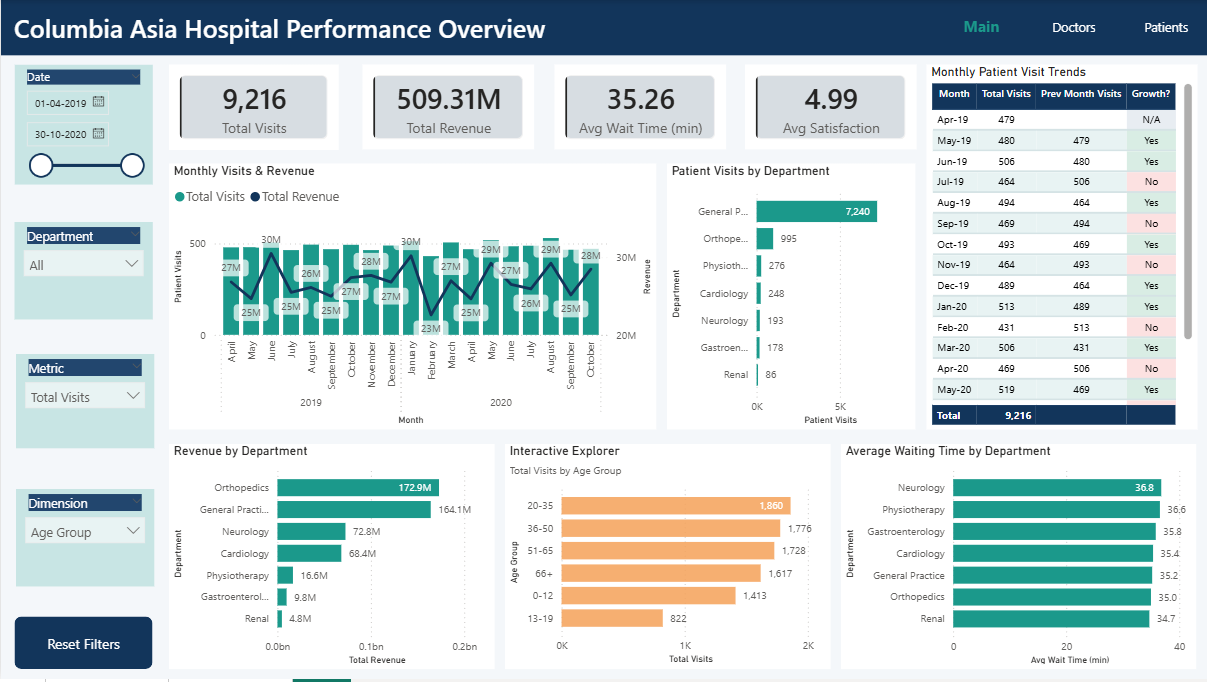

Layout of this report page (visuals, bound fields, positions):
{"tool":"powerbi","page":{"name":"Main","canvas":[1280,720],"ordinal":0},"visuals":[{"type":"cardVisual","fields":{"Data":["FactVisits.Total Visits"]},"box":[178.1,68.4,179.7,90.7],"z":0},{"type":"cardVisual","fields":{"Data":["FactVisits.Total Revenue"]},"box":[383.3,68.3,181.7,90],"z":1000},{"type":"cardVisual","fields":{"Data":["FactVisits.Avg Wait Time"]},"box":[586.7,68.3,181.7,90],"z":2000},{"type":"cardVisual","fields":{"Data":["FactVisits.Avg Satisfaction"]},"box":[788.3,68.3,181.7,90],"z":3000},{"type":"shape","box":[0,0,1600.2,58.9],"z":4000},{"type":"textbox","box":[0,0,1600.2,58.9],"z":5000},{"type":"slicer","fields":{"Values":["Dim_Date.Date"]},"box":[14.3,68.4,146.3,127.2],"z":6000},{"type":"slicer","title":"Department","fields":{"Values":["Dim_Department.Department"]},"box":[14.3,235.4,146.3,103.4],"z":7000},{"type":"lineClusteredColumnComboChart","title":"Monthly Visits & Revenue","fields":{"Category":["Dim_Date.Date Hierarchy.Year","Dim_Date.Date Hierarchy.Month Name","Dim_Date.Date Hierarchy.Date"],"Y":["_Measures.Total Visits"],"Y2":["_Measures.Total Revenue"]},"box":[178.3,173.3,516.7,282],"z":8000},{"type":"clusteredBarChart","title":"Patient Visits by Department","fields":{"Category":["Dim_Department.Department"],"Y":["_Measures.Total Visits"]},"box":[706.7,173.3,263.3,282],"z":9000},{"type":"pageNavigator","box":[1298,10,280,50],"z":10000},{"type":"actionButton","title":"Reset Filters","box":[14.3,653.7,146.3,55.7],"z":11000},{"type":"clusteredBarChart","title":"Revenue by Department","fields":{"Category":["Dim_Department.Department"],"Y":["_Measures.Total Revenue"]},"box":[178.1,470.8,345.2,238.6],"z":12000},{"type":"clusteredBarChart","title":"Average Waiting Time by Department","fields":{"Category":["Dim_Department.Department"],"Y":["_Measures.Avg Wait Time (min)"]},"box":[890.7,470.8,377,238.6],"z":13000},{"type":"slicer","fields":{"Values":["Metric Selector.Metric Selector"]},"box":[15.9,375.4,146.3,100.2],"z":14000},{"type":"slicer","fields":{"Values":["Dimension Selector.Dimension Selector"]},"box":[15.9,518.5,146.3,103.4],"z":15000},{"type":"tableEx","title":"Monthly Patient Visit Trends","fields":{"Values":["Dim_Date.Year-Month","_Measures.Total Visits","_Measures.Prev Month Visits","_Measures.Visits Higher Than Prev Month"]},"box":[981.7,68.3,286.7,386.7],"z":16000},{"type":"clusteredBarChart","title":"Interactive Explorer","fields":{"Category":["Dim_Patient.Age Group"],"Y":["_Measures.Total Visits"]},"box":[534.4,470.8,345.2,238.6],"z":17000},{"type":"pageNavigator","box":[995,10,285,36.7],"z":18000}]}

Visuals, with their boxes in screenshot pixels (x1, y1, x2, y2), scaled from the page's 1280x720 canvas onto the 1207x682 screenshot:
cardVisual - FactVisits.Total Visits: crop(168, 65, 337, 151)
cardVisual - FactVisits.Total Revenue: crop(361, 65, 533, 150)
cardVisual - FactVisits.Avg Wait Time: crop(553, 65, 725, 150)
cardVisual - FactVisits.Avg Satisfaction: crop(743, 65, 915, 150)
shape: crop(0, 0, 1206, 56)
textbox: crop(0, 0, 1206, 56)
slicer - Dim_Date.Date: crop(13, 65, 151, 185)
"Department" slicer: crop(13, 223, 151, 321)
"Monthly Visits & Revenue" lineClusteredColumnComboChart: crop(168, 164, 655, 431)
"Patient Visits by Department" clusteredBarChart: crop(666, 164, 915, 431)
"Reset Filters" actionButton: crop(13, 619, 151, 672)
"Revenue by Department" clusteredBarChart: crop(168, 446, 493, 672)
"Average Waiting Time by Department" clusteredBarChart: crop(840, 446, 1195, 672)
slicer - Metric Selector.Metric Selector: crop(15, 356, 153, 450)
slicer - Dimension Selector.Dimension Selector: crop(15, 491, 153, 589)
"Monthly Patient Visit Trends" tableEx: crop(926, 65, 1196, 431)
"Interactive Explorer" clusteredBarChart: crop(504, 446, 829, 672)
pageNavigator: crop(938, 9, 1206, 44)
